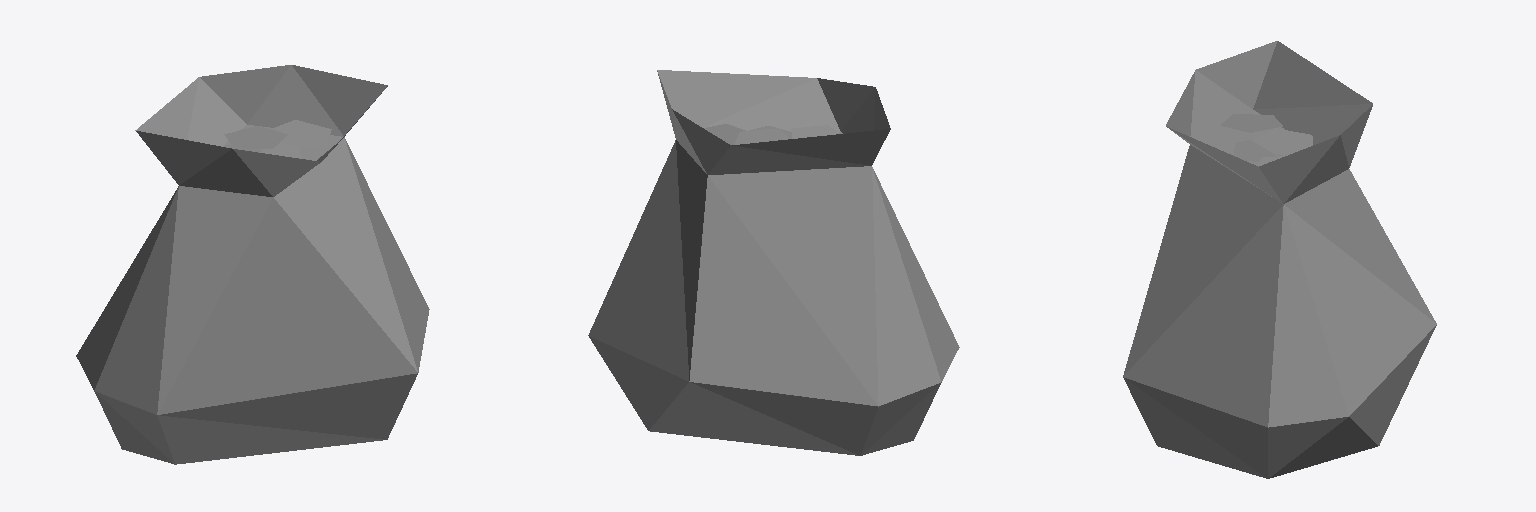
The model's file is capsback.obj.
3 renders of one model, left to right at view 1: azimuth 30°, elevation 25°; view 2: azimuth 150°, elevation 25°; view 3: azimuth 270°, elevation 25°, orthographic.
Parts seen in each view (by area): view 1: capsback; view 2: capsback; view 3: capsback.
Boxes of the visible parts, box(x1,y1,x2,y2) form: capsback: box(76, 65, 429, 464); capsback: box(588, 70, 959, 455); capsback: box(1123, 41, 1436, 478).
Bounding box in the file's own units: 12.95 × 11.51 × 10.51.